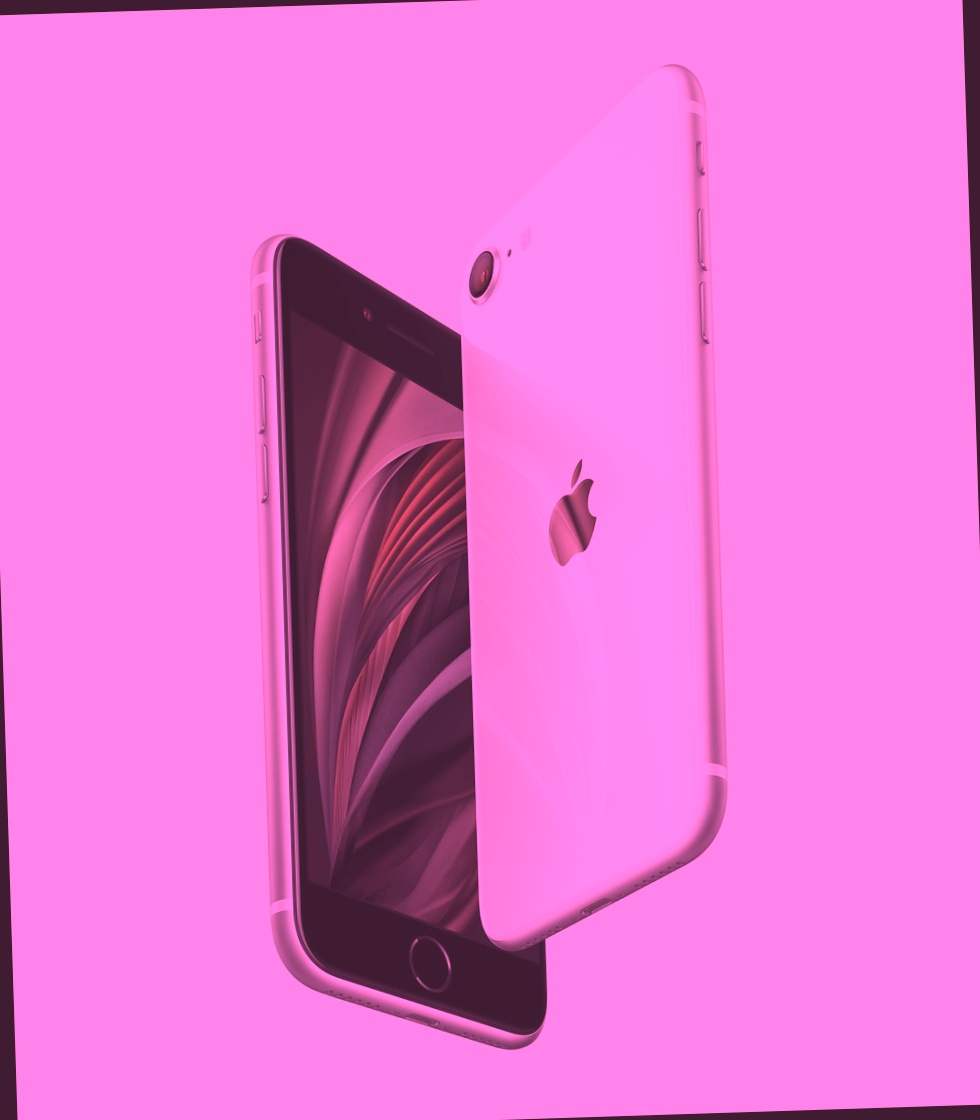iphone: (462, 73, 725, 959)
